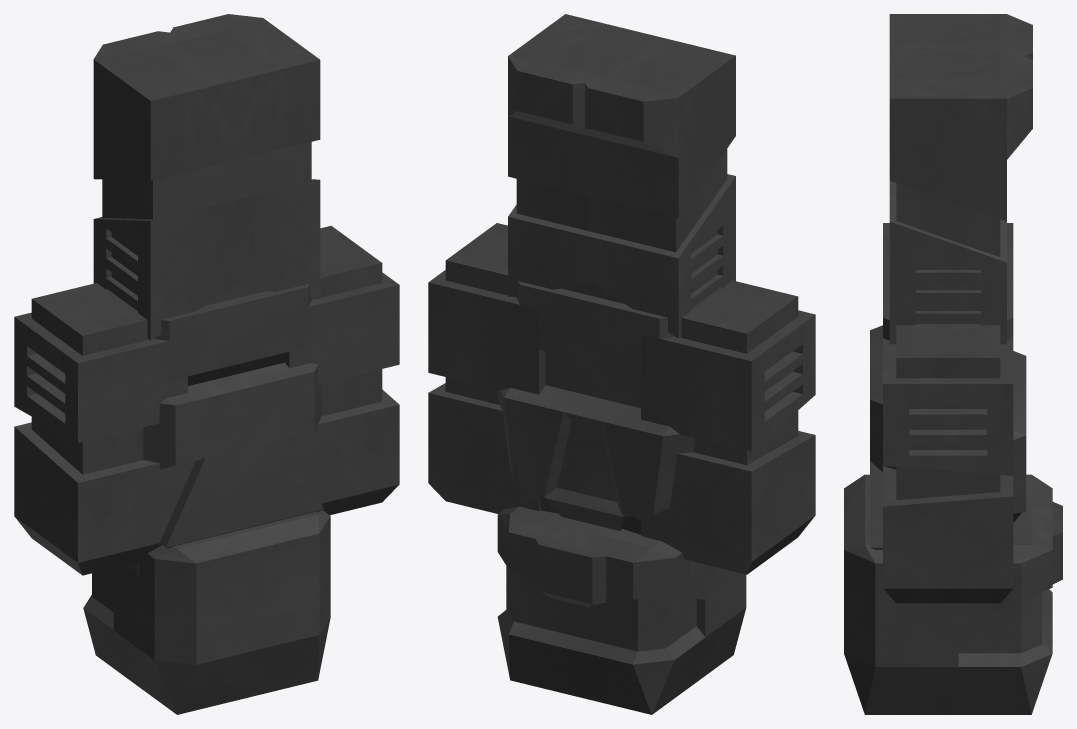
The model's file is bobble_accessory_hev.obj.
3 views of the same model, side by side, from view 1: azimuth 30°, elevation 25°; view 2: azimuth 150°, elevation 25°; view 3: azimuth 270°, elevation 25° (orthographic). The views are drawn at different scales.
Parts seen in each view (by area): view 1: RightArm, Head, Body, RightLeg, LeftArm, RightFoot, LeftLeg, LeftFoot; view 2: RightArm, Head, Body, RightLeg, LeftArm, RightFoot, LeftLeg, LeftFoot; view 3: LeftArm, Head, LeftLeg, LeftFoot, Body, RightFoot.
Part boxes in pixels (x1,y1,x2,y2): RightArm: [14, 283, 187, 575]; Head: [83, 510, 330, 714]; Body: [99, 283, 323, 575]; RightLeg: [93, 119, 249, 340]; LeftArm: [285, 225, 399, 514]; RightFoot: [93, 31, 249, 160]; LeftLeg: [219, 120, 320, 301]; LeftFoot: [170, 14, 320, 143]; RightArm: [641, 280, 815, 574]; Head: [497, 506, 746, 714]; Body: [497, 281, 730, 574]; RightLeg: [578, 116, 735, 338]; LeftArm: [428, 223, 545, 513]; RightFoot: [579, 31, 735, 157]; LeftLeg: [508, 116, 603, 296]; LeftFoot: [508, 14, 658, 140]; LeftArm: [883, 324, 1013, 603]; Head: [844, 474, 1062, 714]; LeftLeg: [889, 160, 1006, 344]; LeftFoot: [889, 51, 1032, 159]; Body: [870, 246, 1026, 549]; RightFoot: [889, 14, 1032, 63].
Bounding box in the file's own units: 18.25 × 33 × 10.5.
